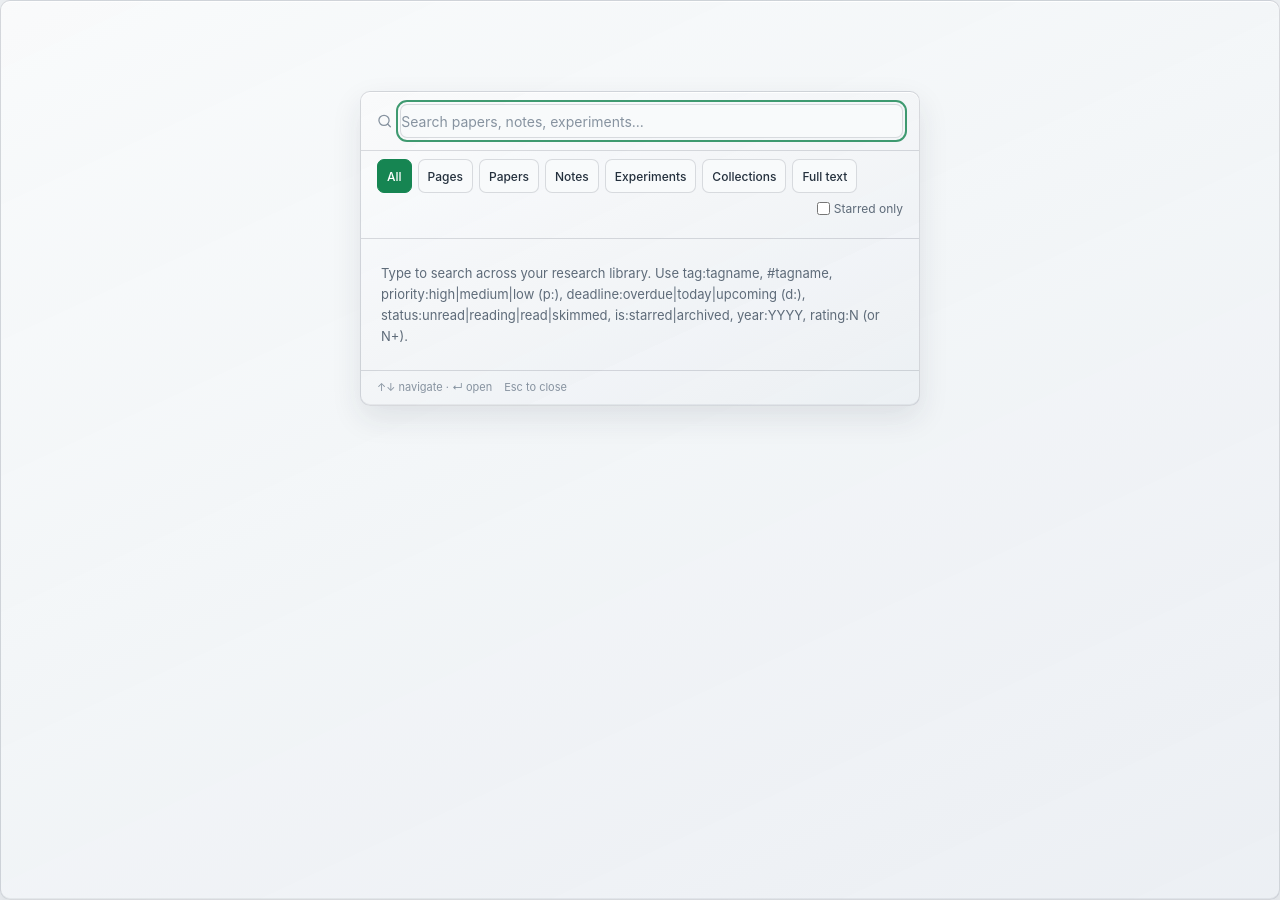
Test: GlobalSearch › highlights matching query text in results
This screenshot has width=1280, height=900.
Type "highlight" into the field with placeholder "Search papers, notes, experiments..." at coordinates (652, 121), box [400,104,903,138]
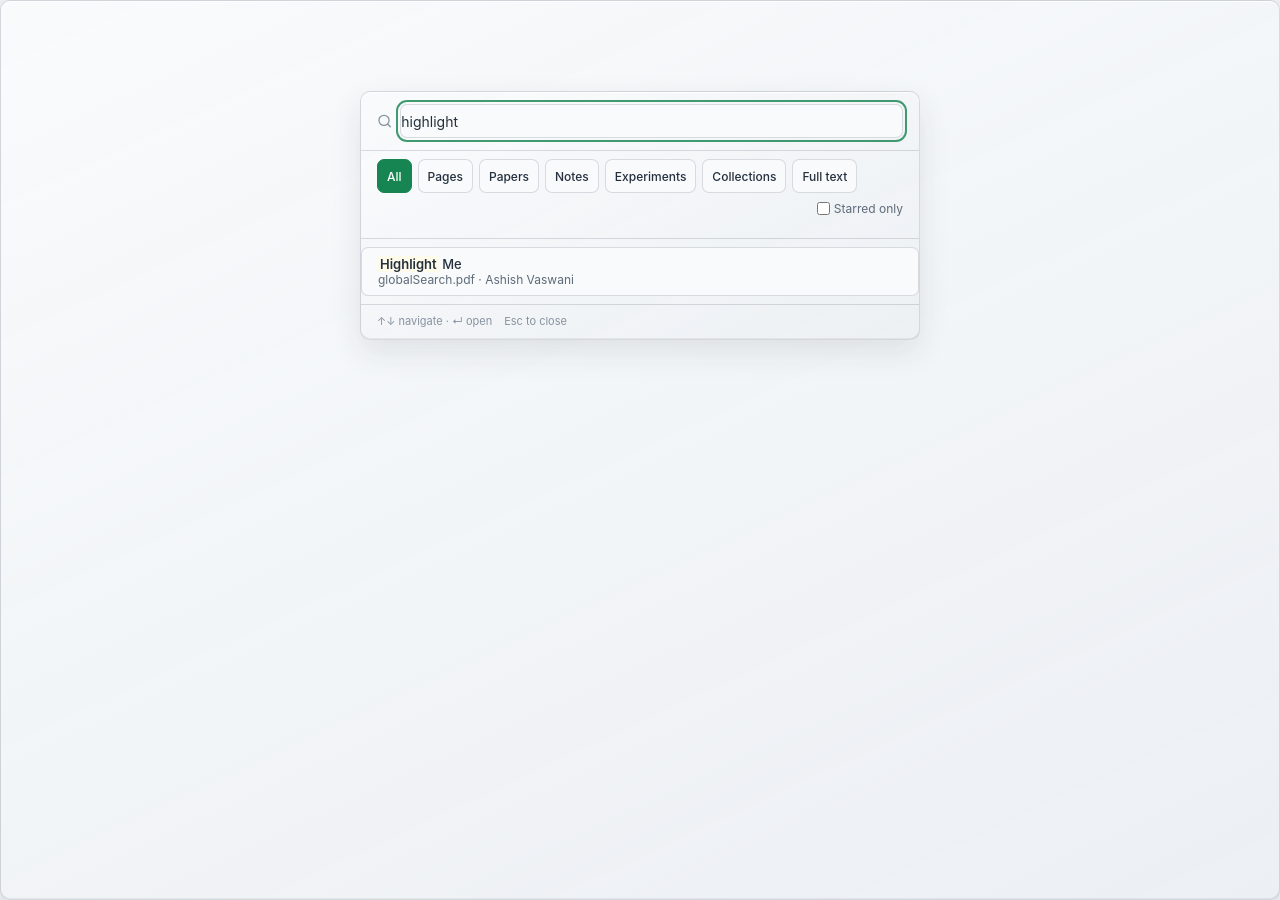
Expected: the text "Highlight" is shown, [378,256,439,272]
